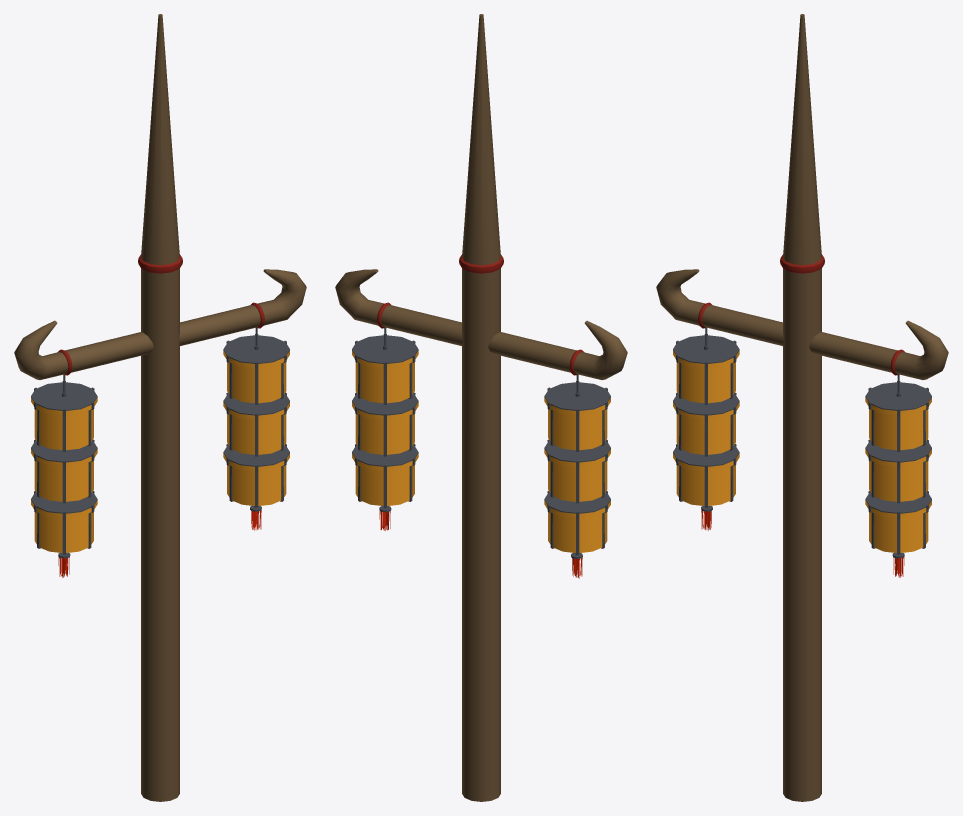
The model's file is Lamp_4.fbx.
3 views of the same model, side by side, from view 1: azimuth 30°, elevation 25°; view 2: azimuth 150°, elevation 25°; view 3: azimuth 330°, elevation 25° (orthographic).
Visible parts, largest first — view 1: Lamp_4; view 2: Lamp_4; view 3: Lamp_4.
Part boxes in pixels (<box>): Lamp_4: <box>14,14,306,801</box>; Lamp_4: <box>335,14,627,801</box>; Lamp_4: <box>656,14,948,801</box>.
Bounding box in the file's own units: 103 × 265 × 20.53.
